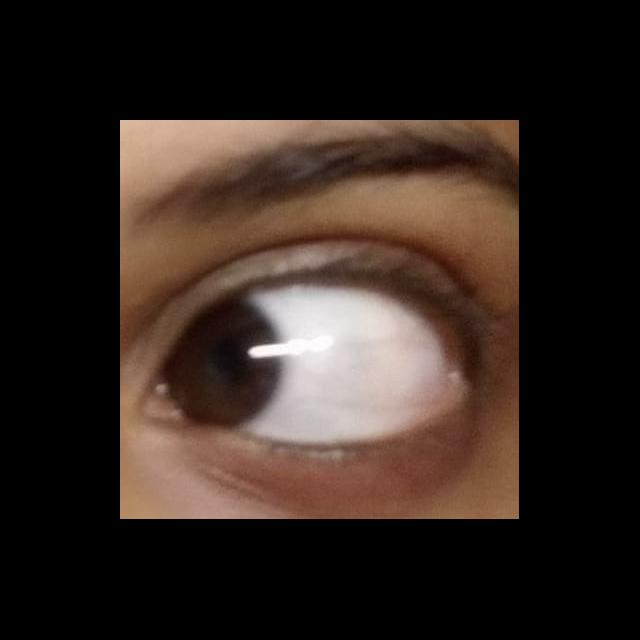eye: (160, 282, 468, 447)
iris: (164, 300, 282, 431)
